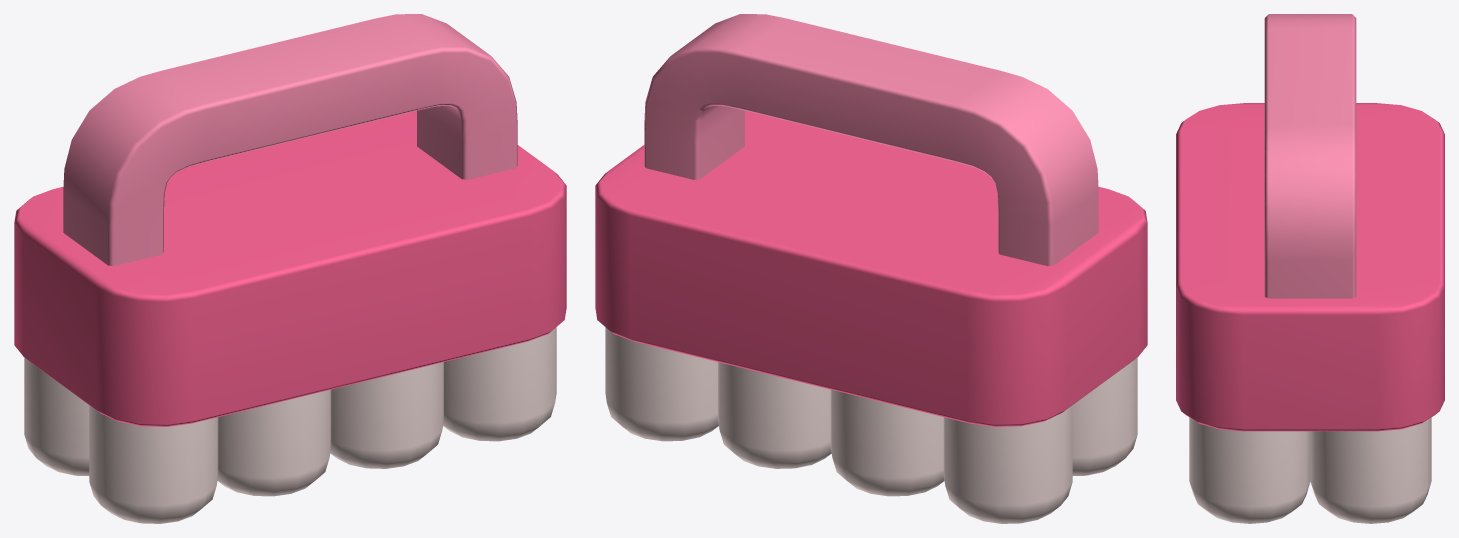
Rendered from Public_13_Cleaning_Brush_2.glb.
3 renders of one model, left to right at view 1: azimuth 30°, elevation 25°; view 2: azimuth 150°, elevation 25°; view 3: azimuth 270°, elevation 25°, orthographic. The views are drawn at different scales.
Parts seen in each view (by area): view 1: Public_13_Cleaning_Brush_2; view 2: Public_13_Cleaning_Brush_2; view 3: Public_13_Cleaning_Brush_2.
Part boxes in pixels (x1=…): Public_13_Cleaning_Brush_2: x1=14, y1=14, x2=566, y2=523; Public_13_Cleaning_Brush_2: x1=595, y1=14, x2=1147, y2=523; Public_13_Cleaning_Brush_2: x1=1176, y1=14, x2=1444, y2=523.
Size of the model in its own units: 0.5721 by 0.4512 by 0.3102.
1 material, 1 textured.
